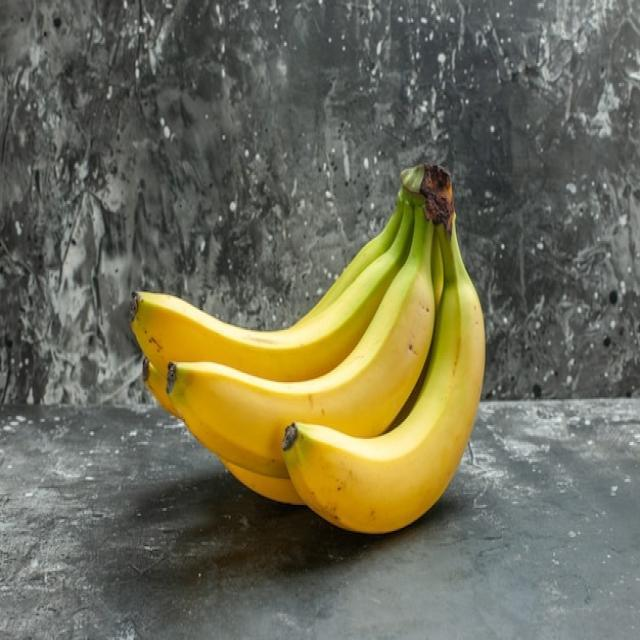Banana: (124, 156, 493, 540)
